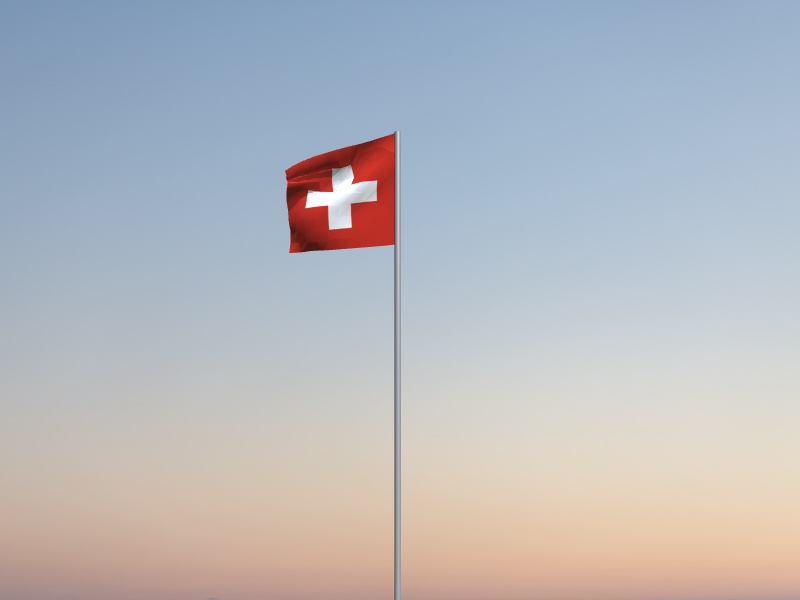ch: (284, 133, 395, 255)
